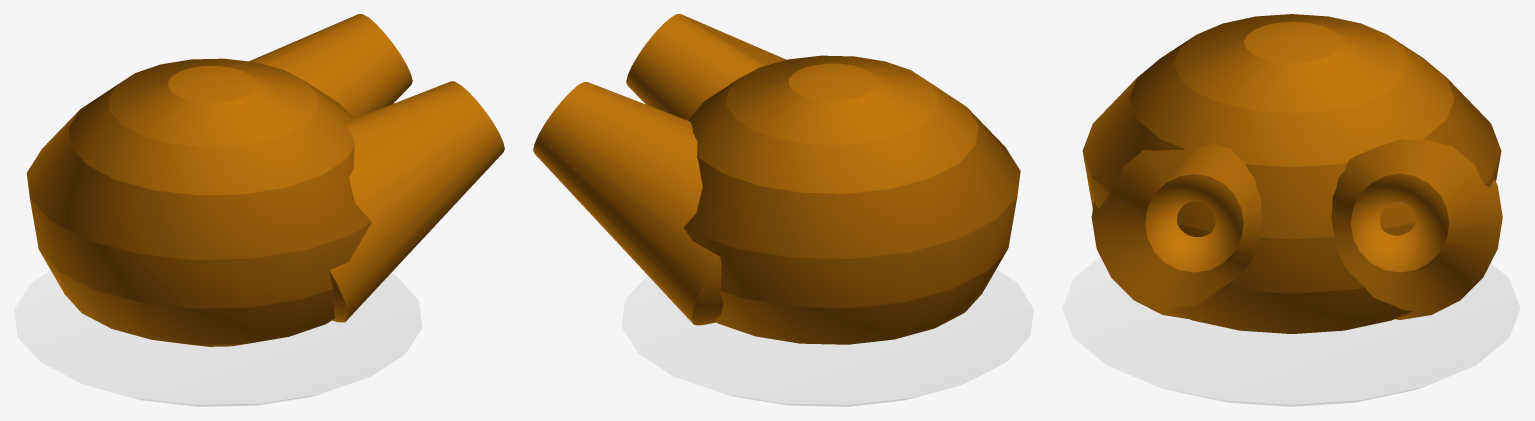
Rendered from Chicken.fbx.
The picture shows the model from 3 angles, left to right: view 1: azimuth 30°, elevation 25°; view 2: azimuth 150°, elevation 25°; view 3: azimuth 270°, elevation 25°; orthographic projection. The views are drawn at different scales.
Parts seen in each view (by area): view 1: pSphere2; view 2: pSphere2; view 3: pSphere2.
Part boxes in pixels (x1,y1,x2,y2): pSphere2: (14,14,504,406); pSphere2: (533,14,1033,406); pSphere2: (1062,14,1520,406).
Bounding box in the file's own units: 2.52 × 1.48 × 2.19.
Materials: 1 (1 with a texture image).
